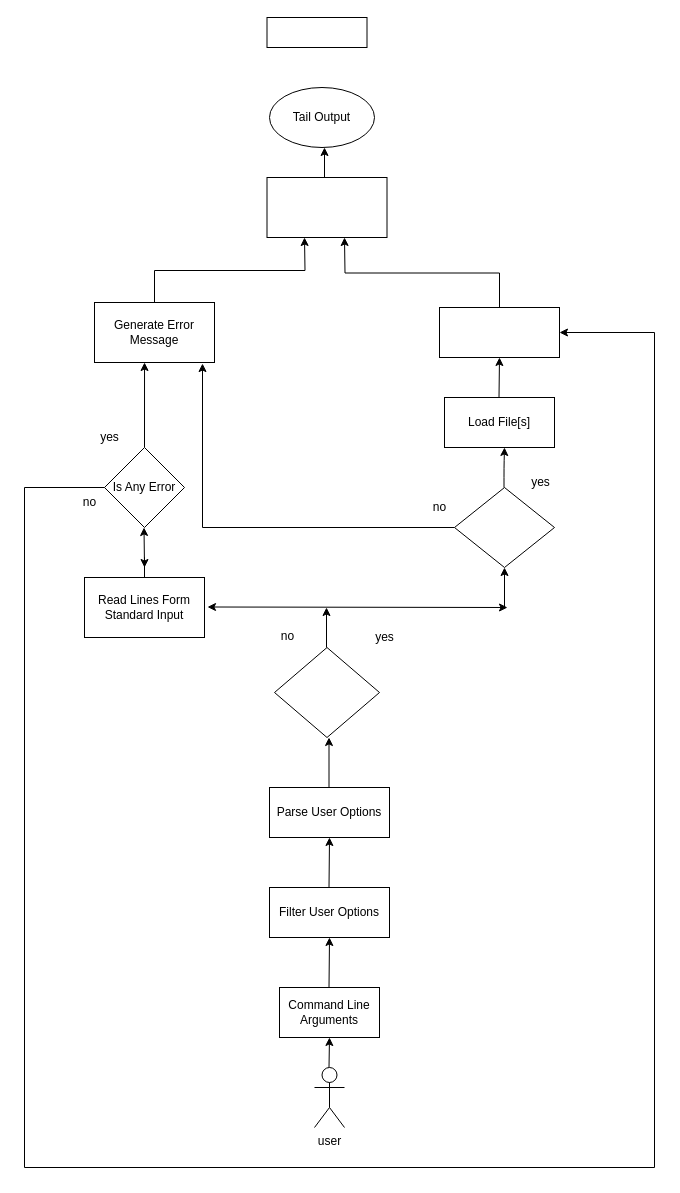
Image size: 680x1193. Some labels were removed from this diagram. The shapes that lost their labels are listed below. From the top down, each one's box as (x1, y1, x2, y2) in pixels, then its label:
(266, 16, 367, 48): Tail Flow
(266, 176, 387, 238): Generate Format Message
(438, 306, 560, 358): Get Last Lines
(454, 486, 554, 568): Is File[s] Exist
(274, 646, 380, 738): Is File Name[s] Specified
